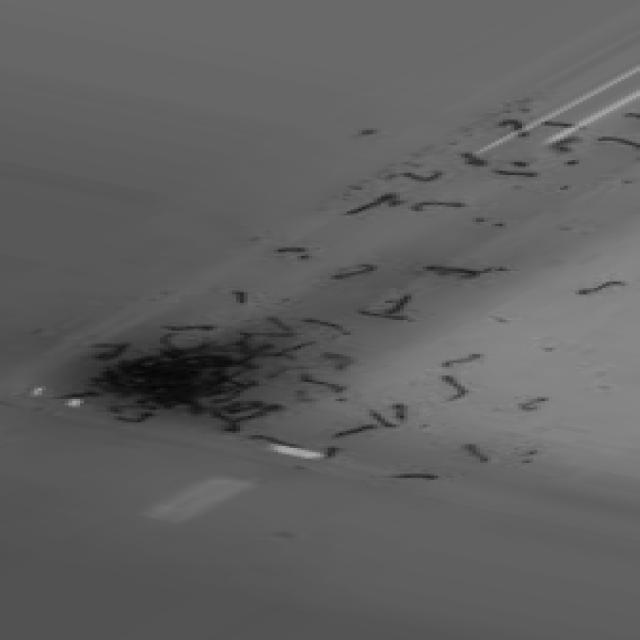larvas: (239, 402, 286, 425), (349, 192, 400, 213), (239, 340, 276, 362), (224, 397, 267, 413), (224, 361, 260, 380), (426, 266, 480, 278), (210, 412, 242, 432), (209, 389, 249, 405), (336, 265, 379, 279), (255, 434, 298, 448), (303, 379, 346, 393), (307, 319, 349, 333), (441, 354, 477, 370), (334, 423, 374, 437), (578, 282, 624, 294), (445, 375, 466, 401), (323, 351, 351, 370), (596, 136, 640, 148), (385, 294, 411, 313), (117, 411, 153, 424), (361, 313, 412, 322), (370, 411, 398, 427), (164, 402, 200, 414), (405, 170, 443, 181), (394, 473, 440, 482), (467, 444, 490, 462), (158, 326, 217, 333), (552, 137, 576, 154), (414, 202, 462, 210), (94, 349, 128, 360), (160, 331, 180, 349), (519, 398, 548, 410), (285, 340, 314, 350), (499, 119, 523, 131), (176, 341, 216, 348), (272, 317, 293, 330), (242, 332, 296, 337), (94, 343, 129, 350), (498, 171, 538, 177), (61, 392, 100, 398), (278, 246, 307, 254), (393, 403, 408, 418), (467, 153, 484, 166), (544, 121, 575, 128), (230, 291, 246, 304), (135, 398, 150, 411), (109, 404, 136, 411), (231, 382, 257, 389), (256, 353, 300, 357), (622, 114, 640, 118)
